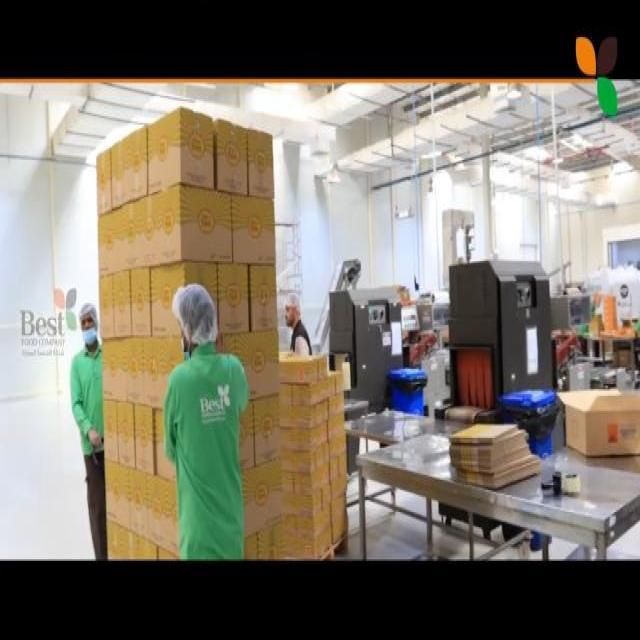hairnet: (172, 288, 224, 342), (74, 303, 100, 332)
